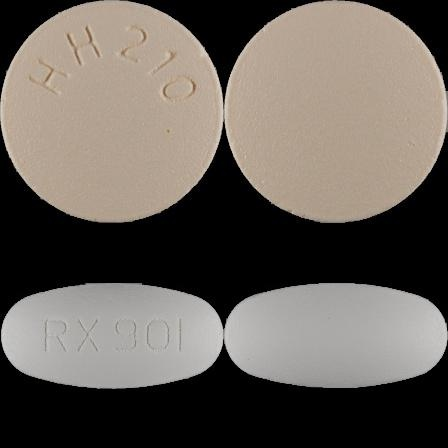61786-280: (0, 0, 224, 224)
